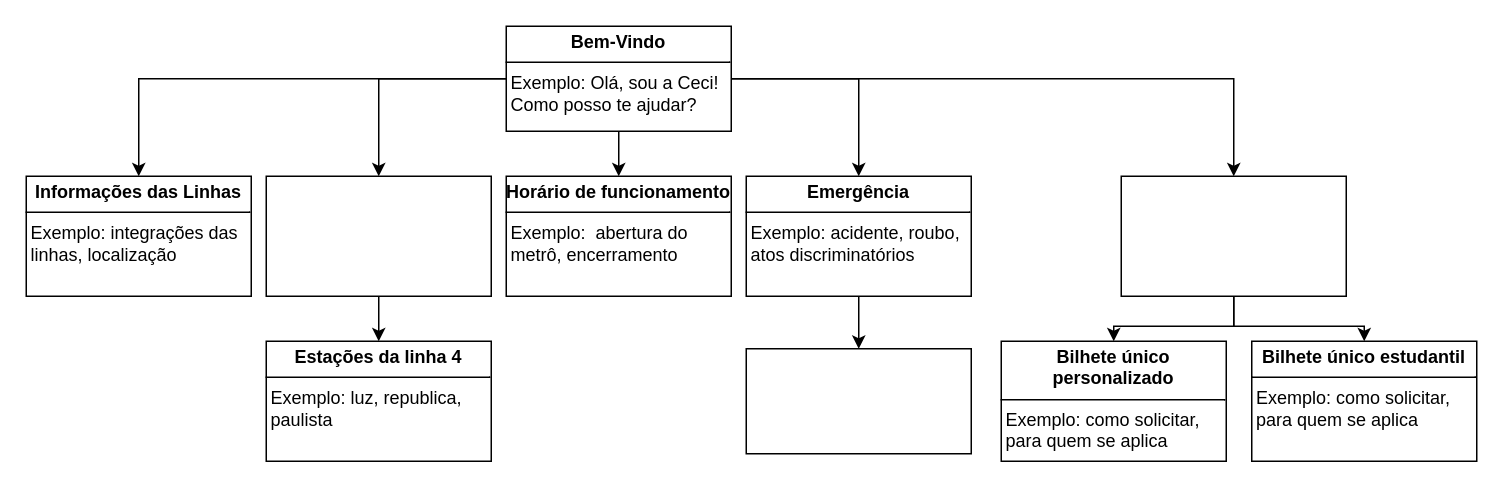
This 1503x488 diagram has some shape labels left out. The box of each missing label's shape, as (x1, y1, x2, y2) in pixels:
Bilhetes Exemplo: acidente, roubo, atos discriminatórios: (1120, 175, 1346, 296)
Informações do incidente Exemplo: onde ocorreu, em qual linha e estação: (745, 347, 971, 454)
Paradas/Estações Exemplo: integrações das linhas, localização: (265, 175, 491, 296)
